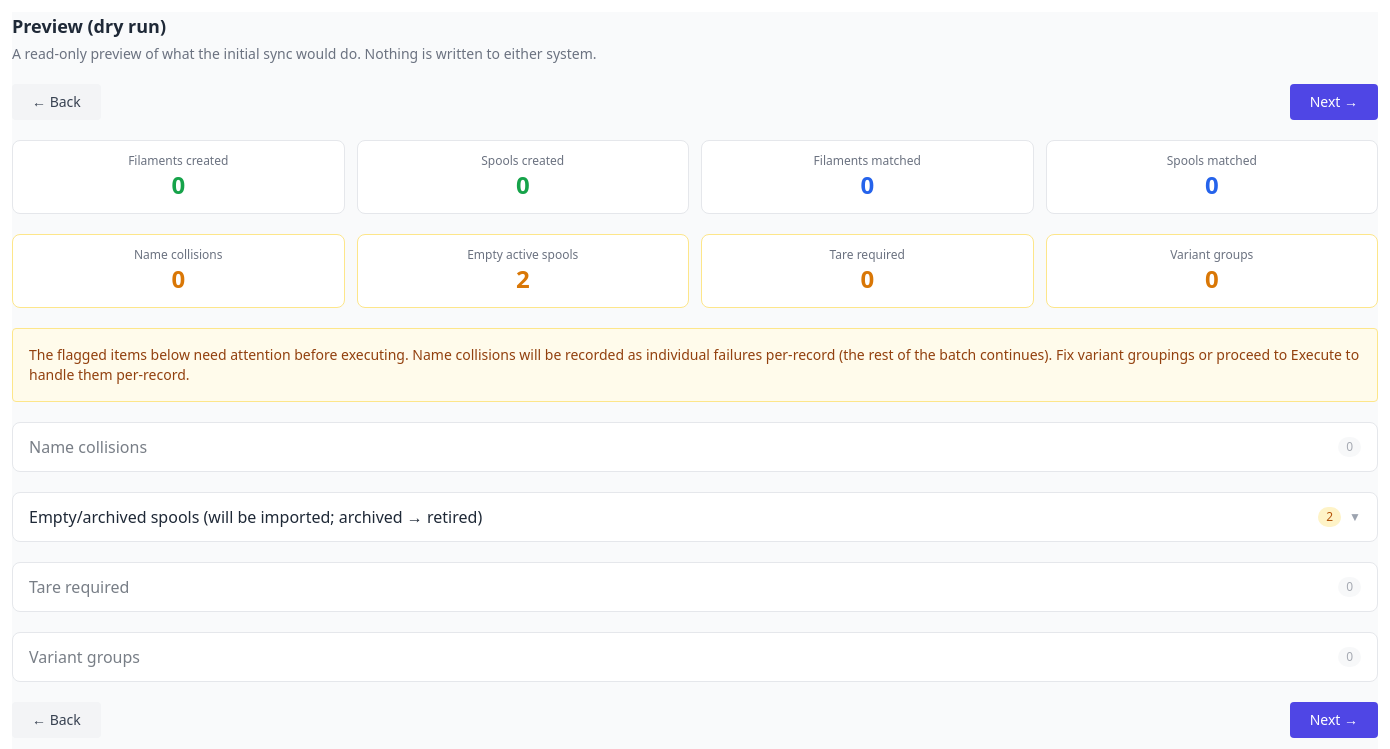
Scenario: StepNPreview — archived spool display › shows both active-empty and archived entries when both are present
Click the button "Empty/archived spools".
click(256, 517)  # box x1=13 y1=493 x2=1377 y2=541
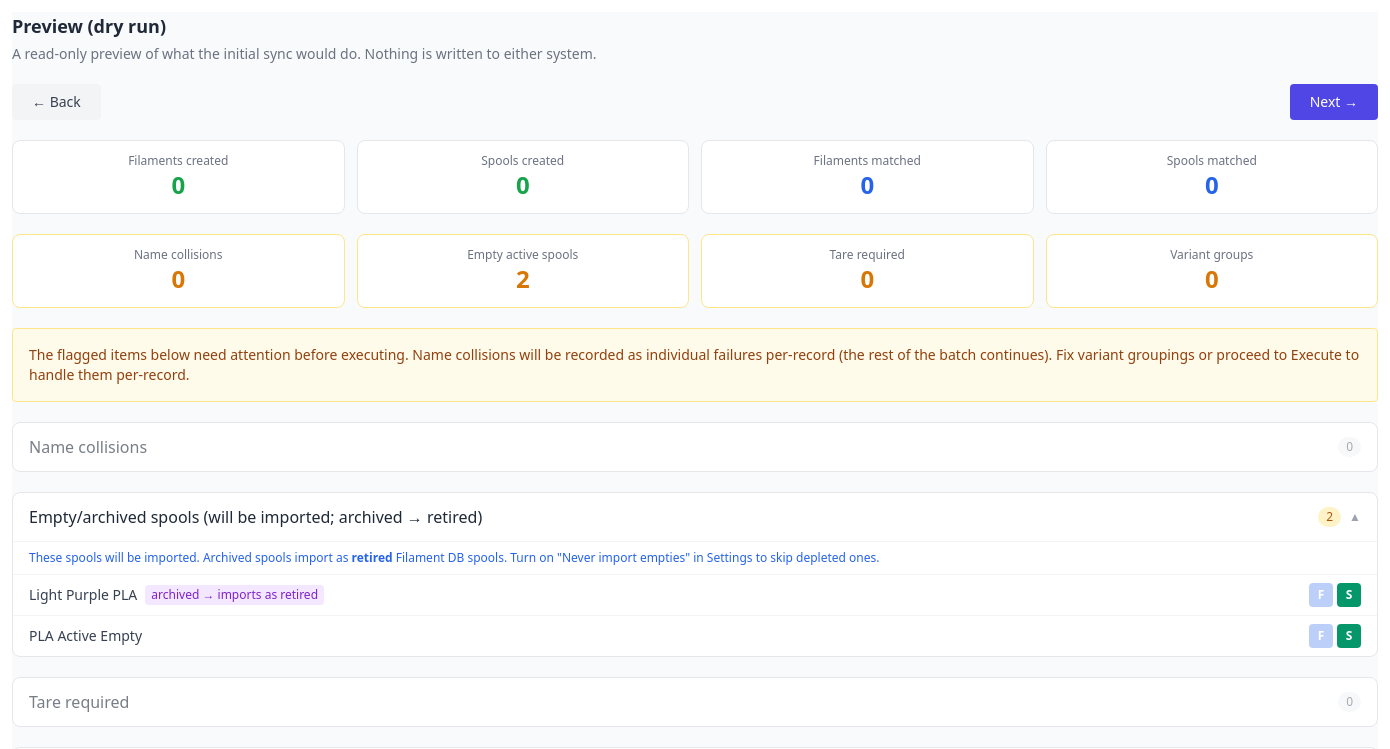
Result: the text "Light Purple PLA" is shown at x1=29 y1=585 x2=137 y2=605
Result: the text "PLA Active Empty" is shown at x1=29 y1=626 x2=142 y2=646
Result: the text "archived → imports as retired" is shown at x1=145 y1=585 x2=324 y2=605
